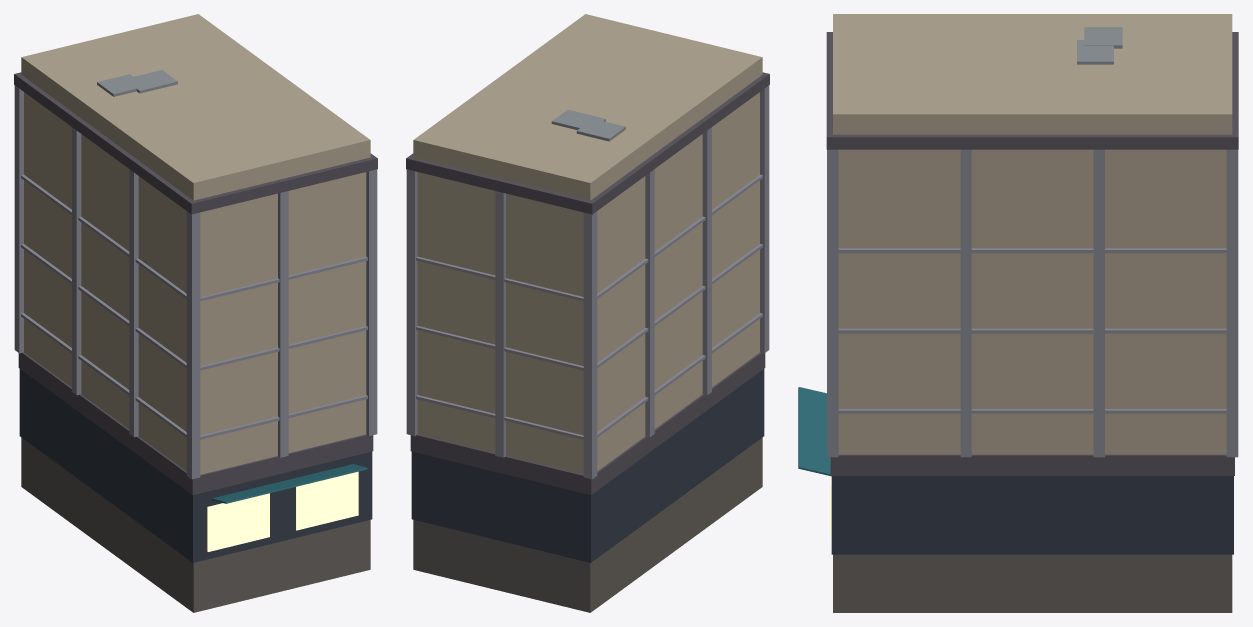
File: building_5.glb
3 views of the same model, side by side, from view 1: azimuth 30°, elevation 25°; view 2: azimuth 150°, elevation 25°; view 3: azimuth 270°, elevation 25° (orthographic). The views are drawn at different scales.
Visible parts, largest first — view 1: building; view 2: building; view 3: building.
Boxes of the visible parts, left/top/right/bottom form: building: left=14, top=14, right=377, bottom=612; building: left=406, top=14, right=769, bottom=612; building: left=798, top=14, right=1238, bottom=612.
Size of the model in its own units: 10 by 22.19 by 17.64.
